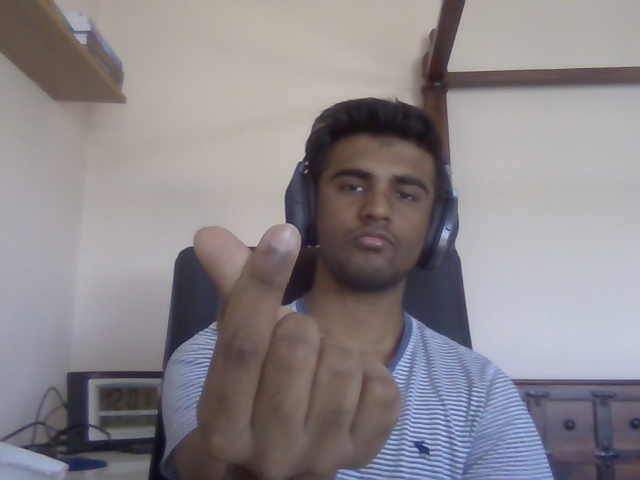Heart: (192, 225, 401, 473)
